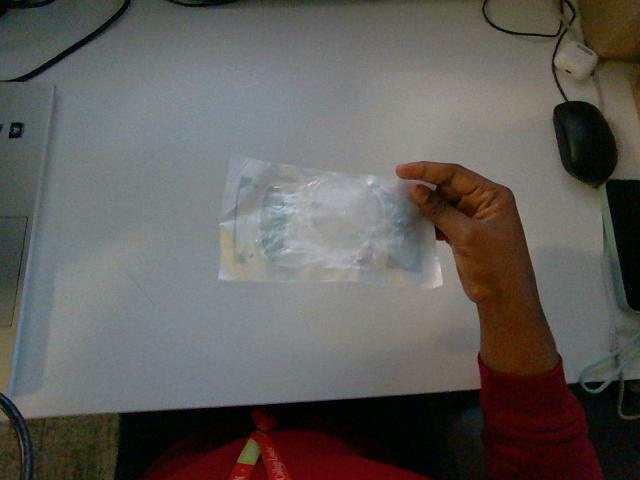gallipot: (219, 158, 441, 287)
